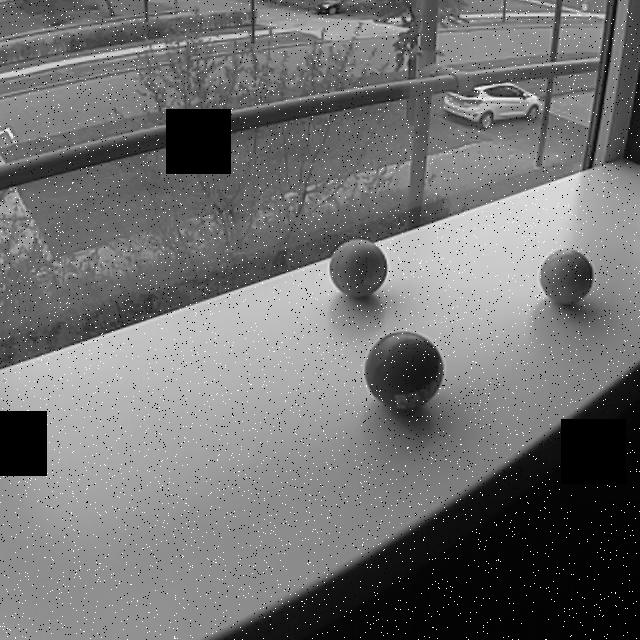ball: (364, 328, 446, 415), (326, 238, 391, 301), (538, 244, 596, 306)
